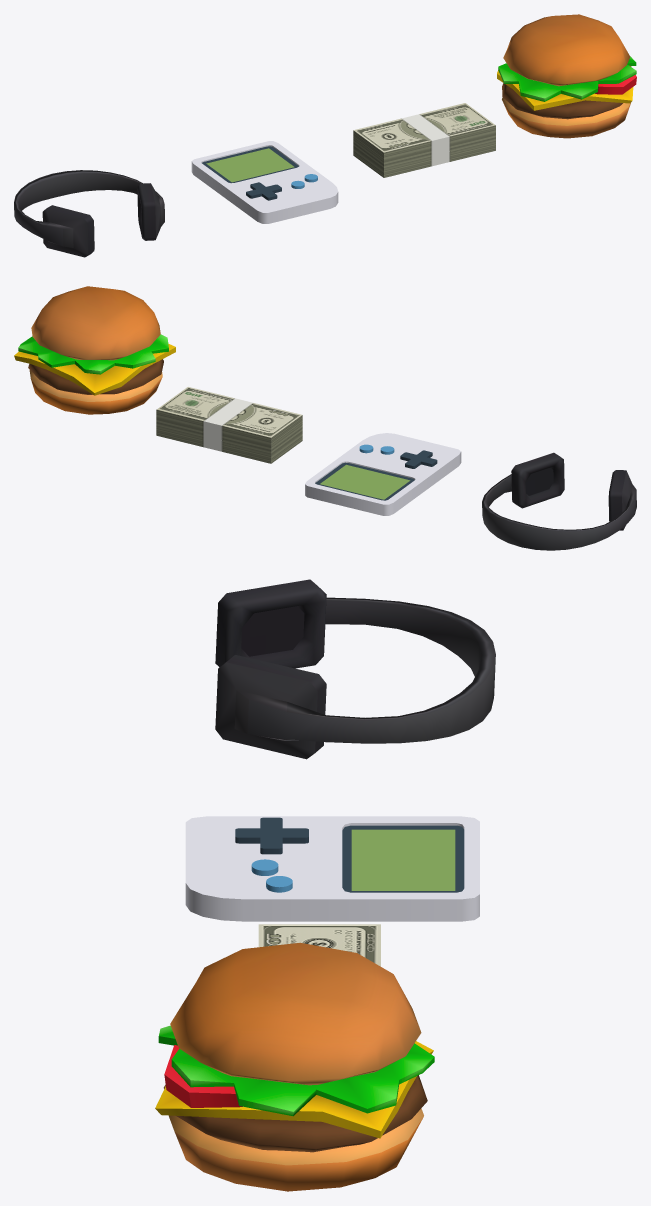
The model's file is objects_update.fbx.
3 renders of one model, top to bottom at view 1: azimuth 30°, elevation 25°; view 2: azimuth 150°, elevation 25°; view 3: azimuth 270°, elevation 25°, orthographic. The views are drawn at different scales.
Visible parts, largest first — view 1: burger, gameboy, cash, headphones; view 2: burger, gameboy, cash, headphones; view 3: burger, gameboy, headphones, cash.
Boxes of the visible parts, left/top/right/bottom form: burger: left=497, top=14, right=636, bottom=138; gameboy: left=191, top=141, right=338, bottom=223; cash: left=353, top=103, right=495, bottom=177; headphones: left=14, top=170, right=164, bottom=257; burger: left=14, top=286, right=175, bottom=414; gameboy: left=305, top=433, right=461, bottom=515; cash: left=156, top=387, right=302, bottom=463; headphones: left=482, top=452, right=636, bottom=550; burger: left=155, top=942, right=434, bottom=1191; gameboy: left=185, top=816, right=479, bottom=921; headphones: left=215, top=579, right=495, bottom=759; cash: left=258, top=924, right=380, bottom=966.
Bounding box in the file's own units: 0.3901 × 0.0633 × 0.0979.
Materials: 3 (3 with a texture image).
